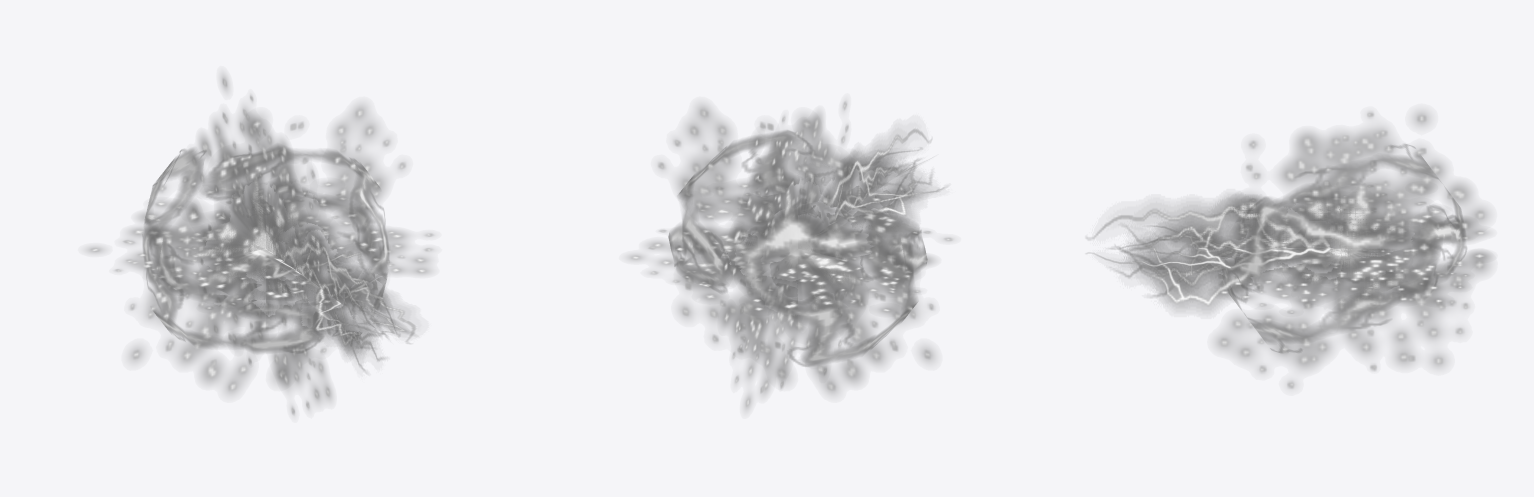
The model's file is si_eos_5100.glb.
3 renders of one model, left to right at view 1: azimuth 30°, elevation 25°; view 2: azimuth 150°, elevation 25°; view 3: azimuth 270°, elevation 25°, orthographic. The views are drawn at different scales.
Parts seen in each view (by area): view 1: layer_01_si_est_0200, layer_04_si_est_0801, layer_02_si_est_0800, layer_00_si_est_0003, layer_03_si_est_0800; view 2: layer_01_si_est_0200, layer_04_si_est_0801, layer_02_si_est_0800, layer_00_si_est_0003, layer_03_si_est_0800; view 3: layer_01_si_est_0200, layer_04_si_est_0801, layer_02_si_est_0800, layer_03_si_est_0800, layer_00_si_est_0003.
Part boxes in pixels (x1=…): layer_01_si_est_0200: x1=87, y1=75, x2=433, y2=414; layer_04_si_est_0801: x1=143, y1=145, x2=388, y2=352; layer_02_si_est_0800: x1=255, y1=231, x2=409, y2=370; layer_00_si_est_0003: x1=207, y1=189, x2=317, y2=304; layer_03_si_est_0800: x1=286, y1=243, x2=415, y2=360; layer_01_si_est_0200: x1=629, y1=101, x2=952, y2=409; layer_04_si_est_0801: x1=668, y1=130, x2=927, y2=366; layer_02_si_est_0800: x1=813, y1=128, x2=931, y2=235; layer_00_si_est_0003: x1=749, y1=186, x2=848, y2=299; layer_03_si_est_0800: x1=835, y1=148, x2=944, y2=230; layer_01_si_est_0200: x1=1205, y1=112, x2=1491, y2=388; layer_04_si_est_0801: x1=1222, y1=144, x2=1466, y2=352; layer_02_si_est_0800: x1=1087, y1=197, x2=1334, y2=310; layer_03_si_est_0800: x1=1092, y1=205, x2=1333, y2=291; layer_00_si_est_0003: x1=1298, y1=203, x2=1401, y2=297.
Bounding box in the file's own units: 16 × 16 × 20.
4 materials, 4 textured.
